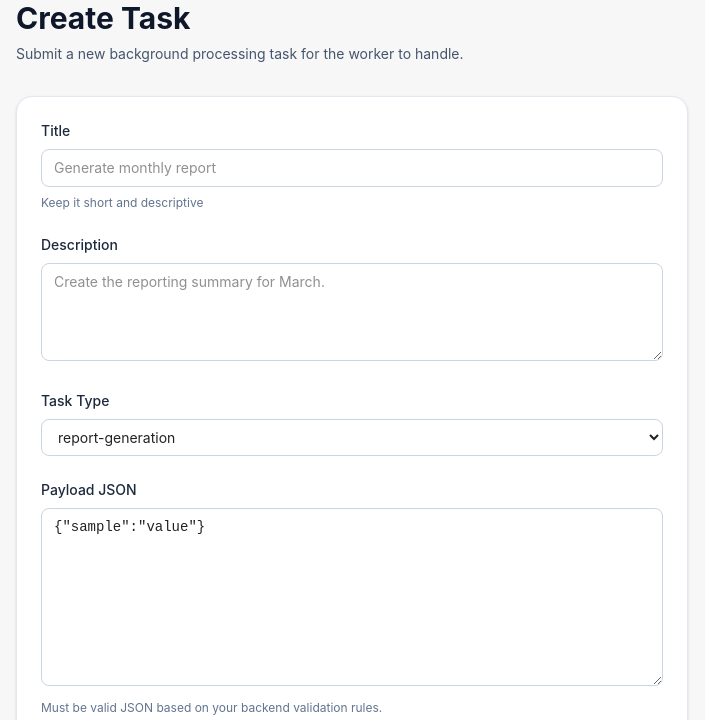
Test case: CreateTaskPage › shows an error message when task creation fails
Type "Bad task" into the field labelled "Title" at (352, 168), box [41,149,663,187]
(page scrolled)
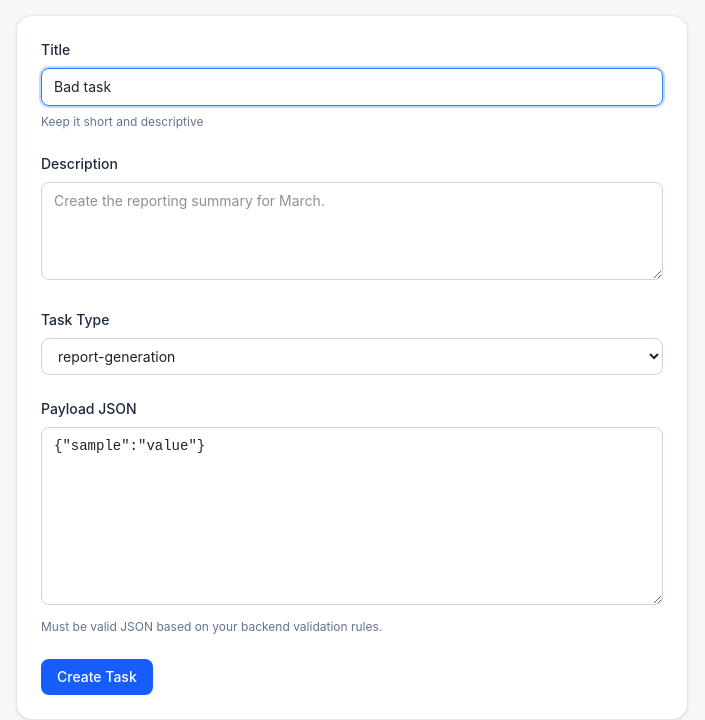
Click the button "Create Task" at (97, 677), box [41,659,153,695]
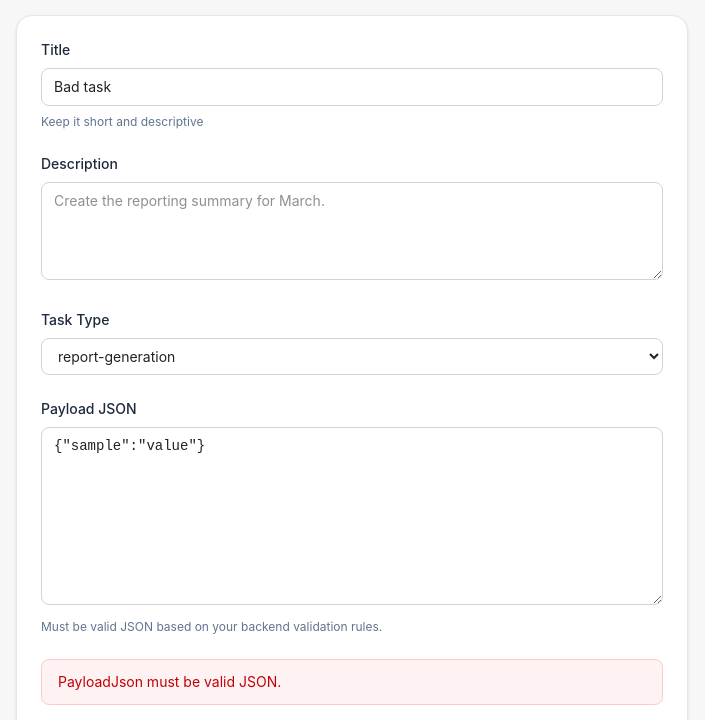
Now the text "PayloadJson must be valid JSON." is shown, box [41,659,663,705]
